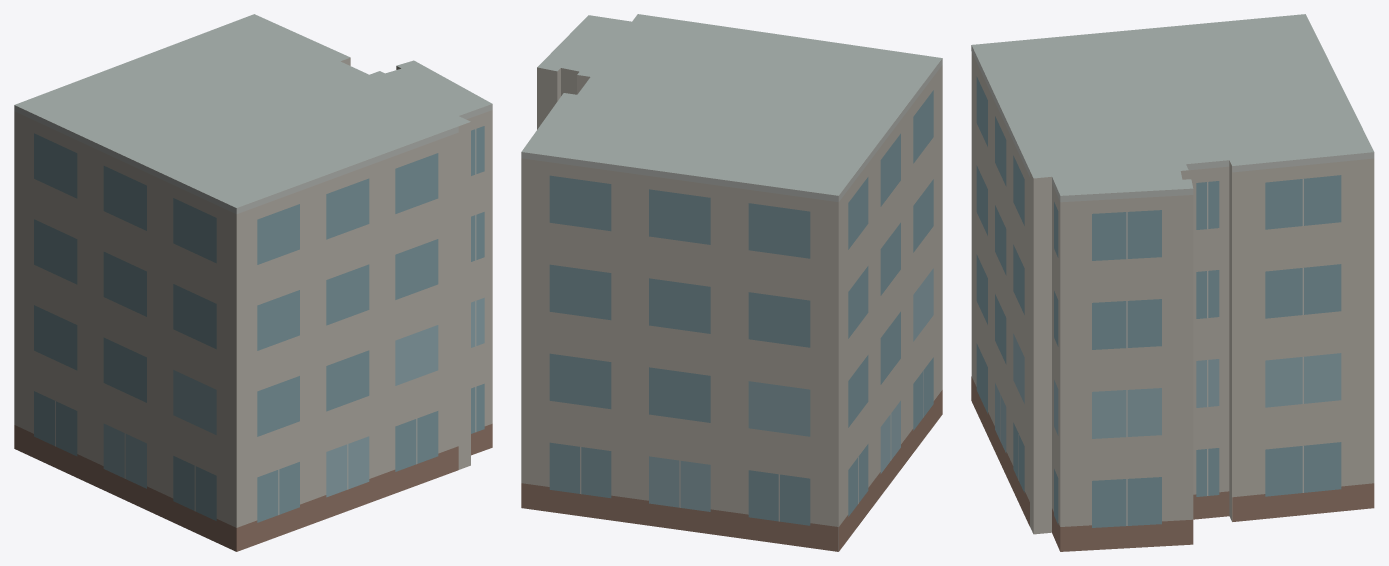
File: survey-upis-32658452.glb
The picture shows the model from 3 angles, left to right: view 1: azimuth 30°, elevation 25°; view 2: azimuth 150°, elevation 25°; view 3: azimuth 270°, elevation 25°; orthographic projection. The views are drawn at different scales.
Parts seen in each view (by area): view 1: survey-upis-32658452.tmp; view 2: survey-upis-32658452.tmp; view 3: survey-upis-32658452.tmp.
Part boxes in pixels (x1,y1,x2,y2): survey-upis-32658452.tmp: (14,14,492,551); survey-upis-32658452.tmp: (521,14,942,551); survey-upis-32658452.tmp: (971,14,1374,551).
Bounding box in the file's own units: 15 × 13.68 × 14.04.
